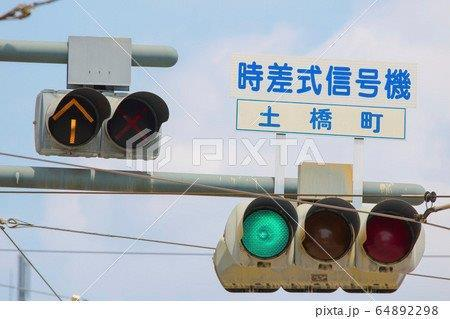cars: (231, 196, 423, 276)
